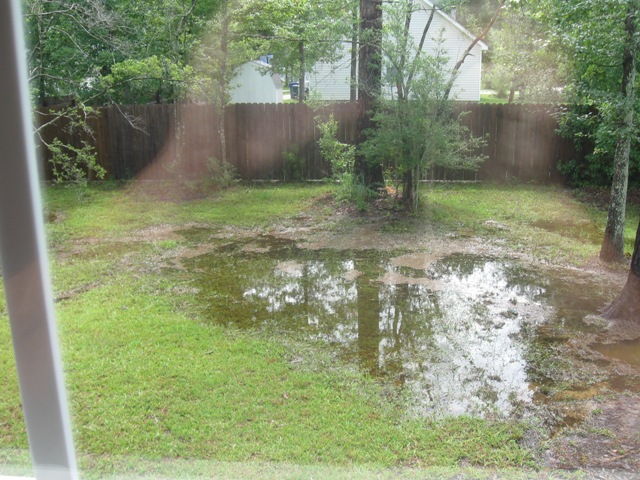tree: (500, 1, 640, 268), (358, 3, 485, 220), (337, 1, 399, 205)
water: (340, 277, 585, 422), (176, 232, 409, 330), (438, 252, 555, 300), (562, 337, 640, 390)
